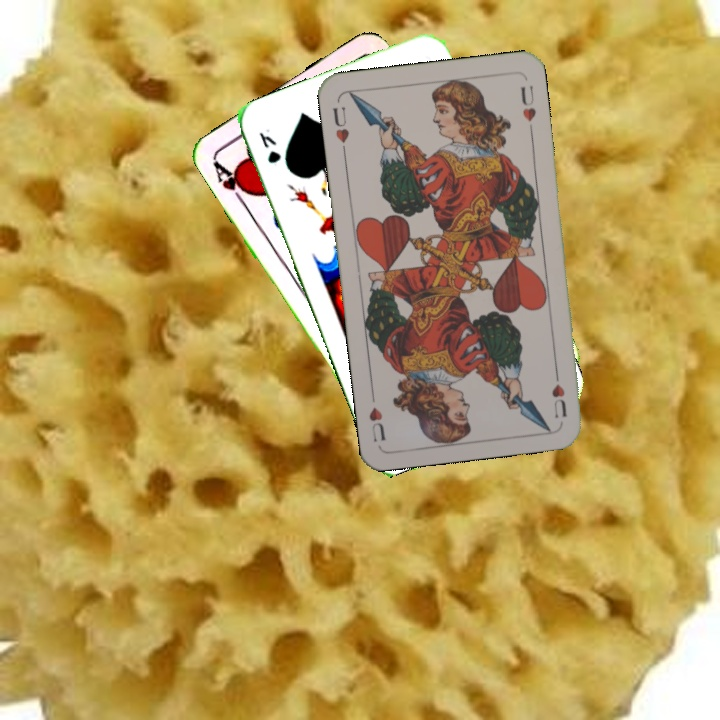GK: (255, 128, 284, 166)
HA: (209, 154, 255, 207)
HU: (328, 102, 352, 157), (547, 364, 569, 421)
